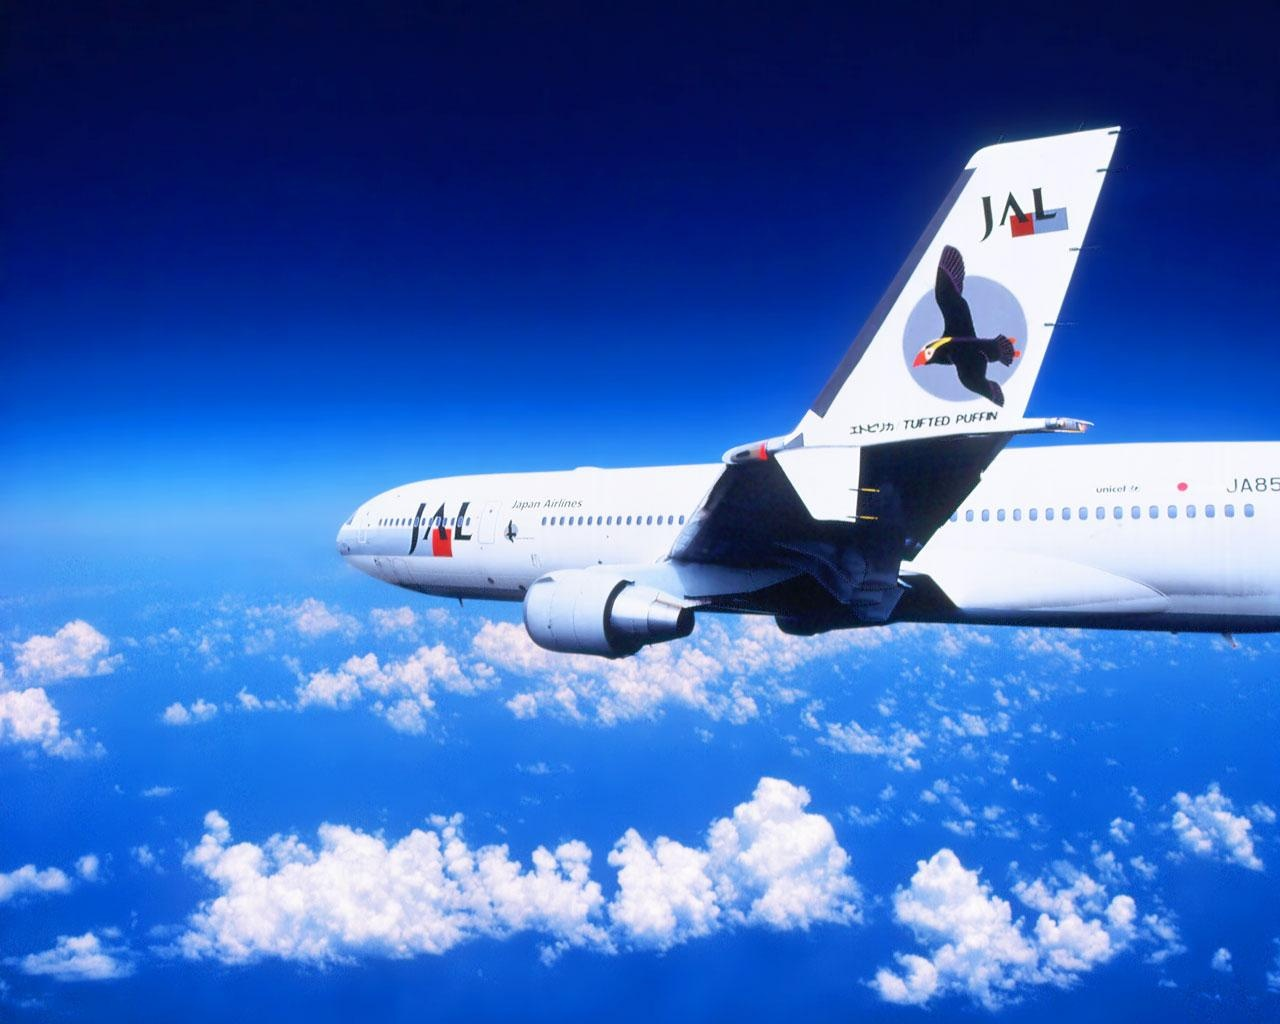airplane: (328, 127, 1280, 672)
